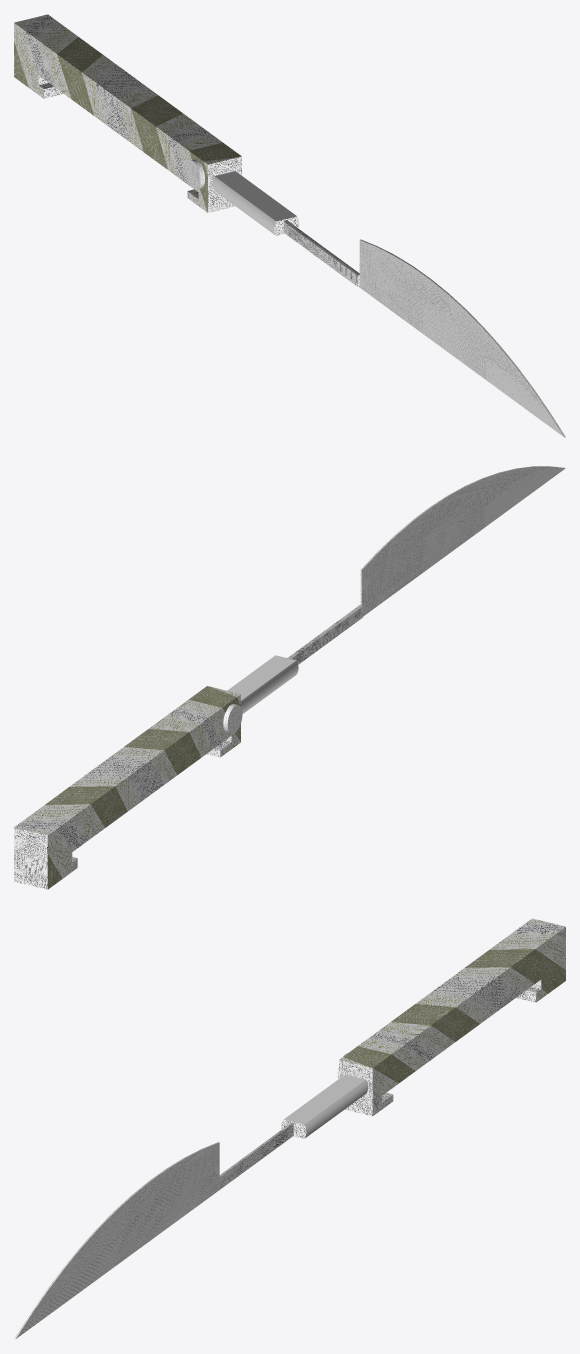
The model's file is model_align.obj.
3 renders of one model, top to bottom at view 1: azimuth 30°, elevation 25°; view 2: azimuth 150°, elevation 25°; view 3: azimuth 330°, elevation 25°, orthographic.
Visible parts, largest first — view 1: mesh1_mesh1-geometry; view 2: mesh1_mesh1-geometry; view 3: mesh1_mesh1-geometry.
Boxes of the visible parts, left/top/right/bottom form: mesh1_mesh1-geometry: left=14, top=14, right=565, bottom=437; mesh1_mesh1-geometry: left=14, top=466, right=565, bottom=889; mesh1_mesh1-geometry: left=14, top=918, right=565, bottom=1339.
Size of the model in its own units: 0.00842 by 0.0183 by 0.2039.
